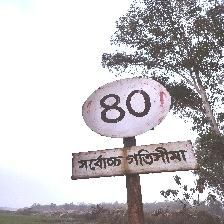Speed-limit: (73, 75, 196, 178)
